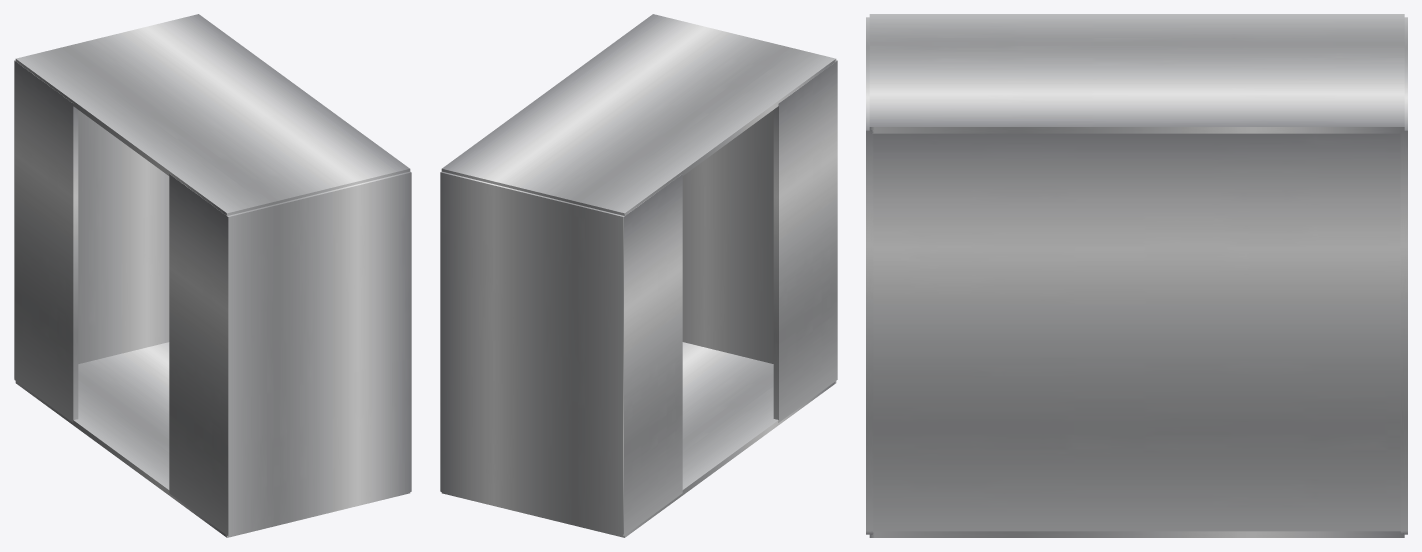
The model's file is Elevador.obj.
3 renders of one model, left to right at view 1: azimuth 30°, elevation 25°; view 2: azimuth 150°, elevation 25°; view 3: azimuth 270°, elevation 25°, orthographic. The views are drawn at different scales.
Parts seen in each view (by area): view 1: polySurface3; view 2: polySurface3; view 3: polySurface3.
Boxes of the visible parts, bbox=[...] form: polySurface3: bbox=[14, 14, 411, 537]; polySurface3: bbox=[440, 14, 837, 537]; polySurface3: bbox=[866, 14, 1407, 537].
Size of the model in its own units: 180 by 305 by 365.
1 material, 1 textured.
